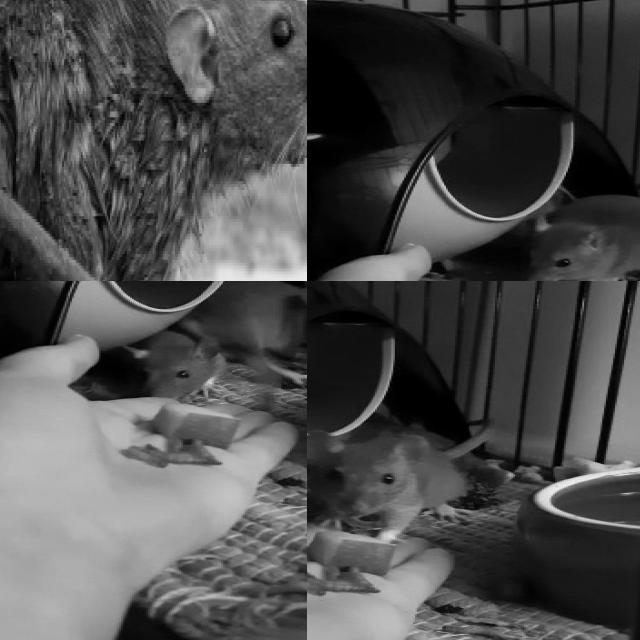rat: (0, 0, 307, 281), (307, 432, 476, 541), (186, 281, 307, 385), (513, 194, 640, 281), (109, 330, 218, 400)
